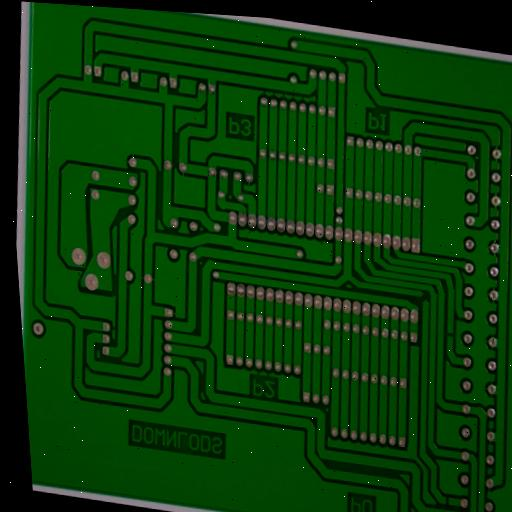open_circuit: (415, 291, 431, 307), (442, 494, 454, 510), (445, 329, 456, 342)
